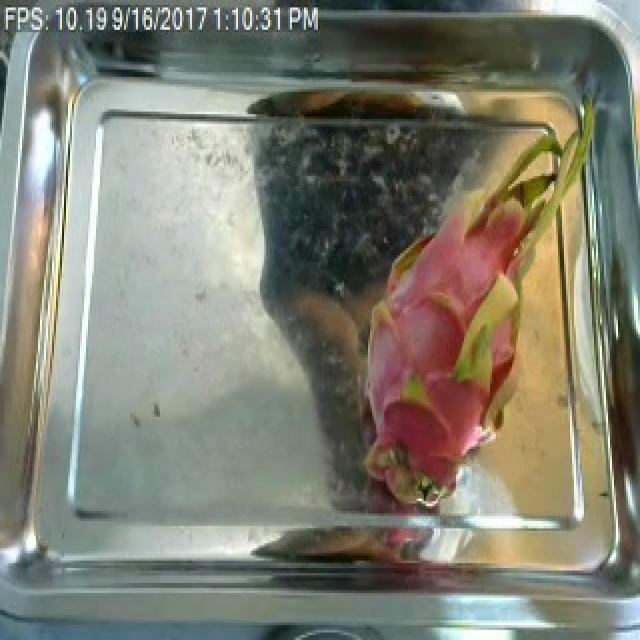fruit: (346, 121, 574, 521)
